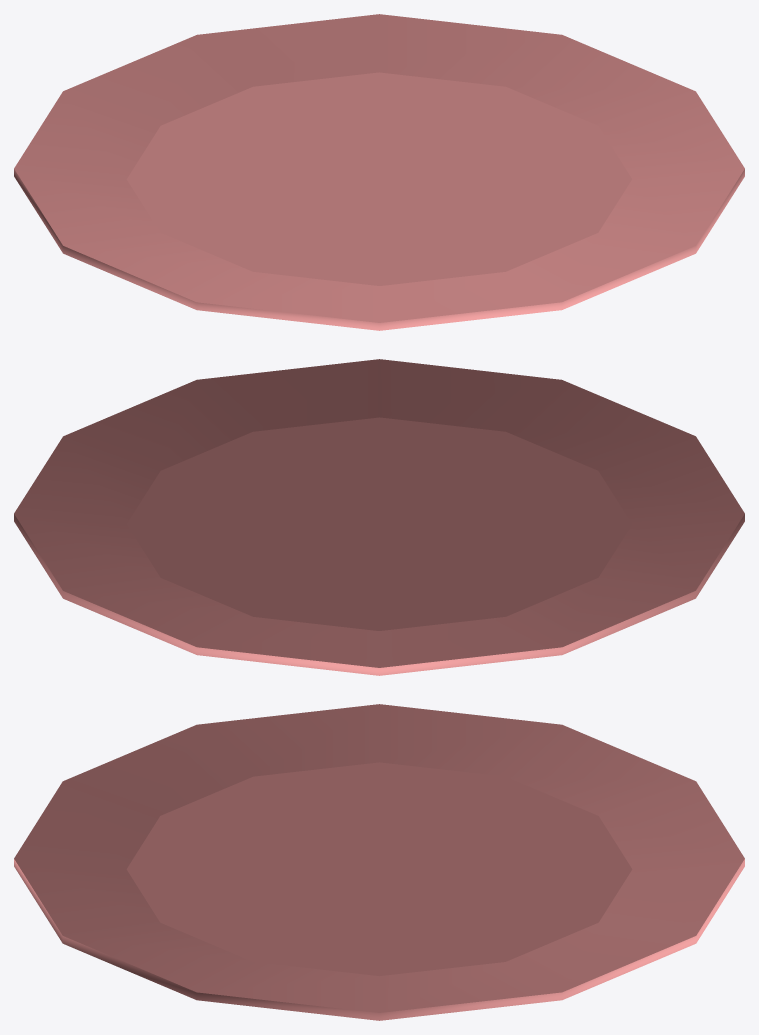
Rendered from TFYK_plate.FBX.
3 views of the same model, one above another, from view 1: azimuth 30°, elevation 25°; view 2: azimuth 150°, elevation 25°; view 3: azimuth 270°, elevation 25° (orthographic).
Parts seen in each view (by area): view 1: TFYK_plate; view 2: TFYK_plate; view 3: TFYK_plate.
Boxes of the visible parts, x1,y1,x2,y2 form: TFYK_plate: [14, 14, 744, 330]; TFYK_plate: [14, 359, 744, 675]; TFYK_plate: [14, 704, 744, 1020].
Bounding box in the file's own units: 0.1604 × 0.0078 × 0.1604.
